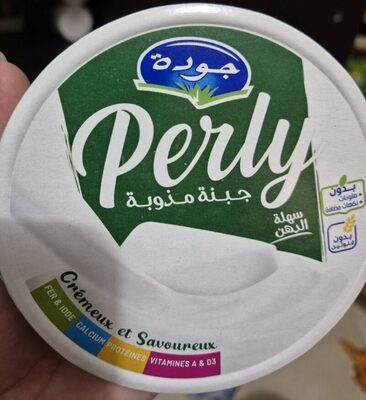Perly fromage: (18, 20, 348, 380)
